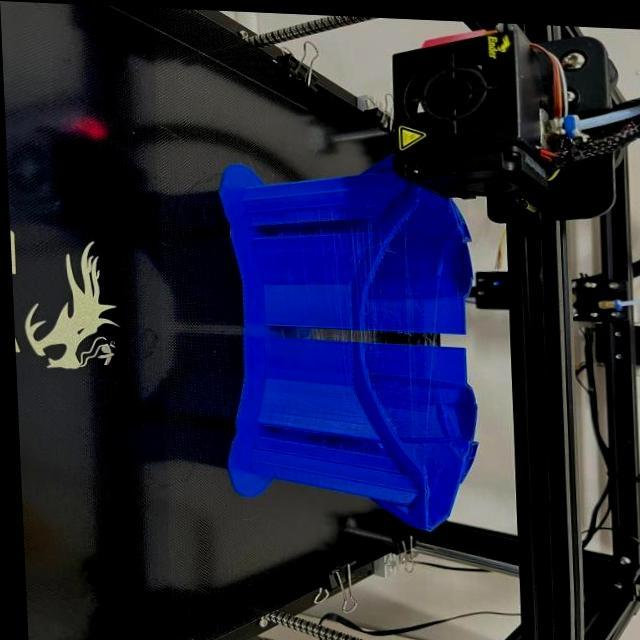stringing: (396, 216, 414, 300), (333, 325, 373, 338), (346, 215, 374, 230), (339, 435, 364, 450), (312, 218, 334, 232), (415, 328, 435, 343)
